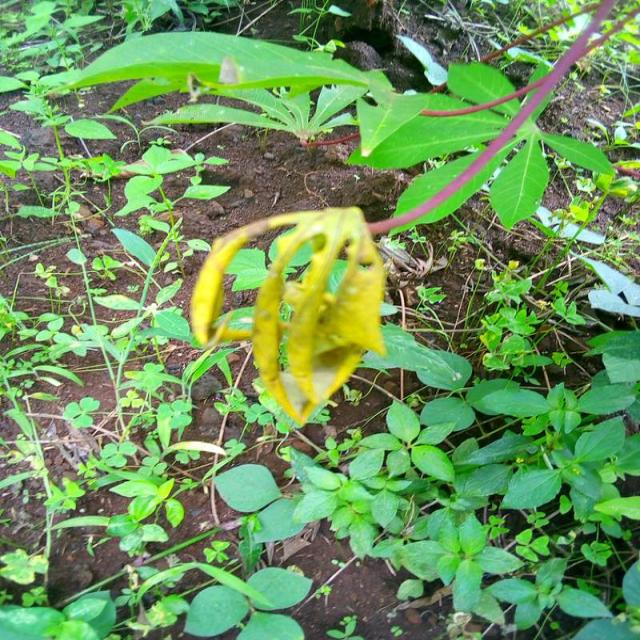cassava leaf: (190, 205, 388, 429)
